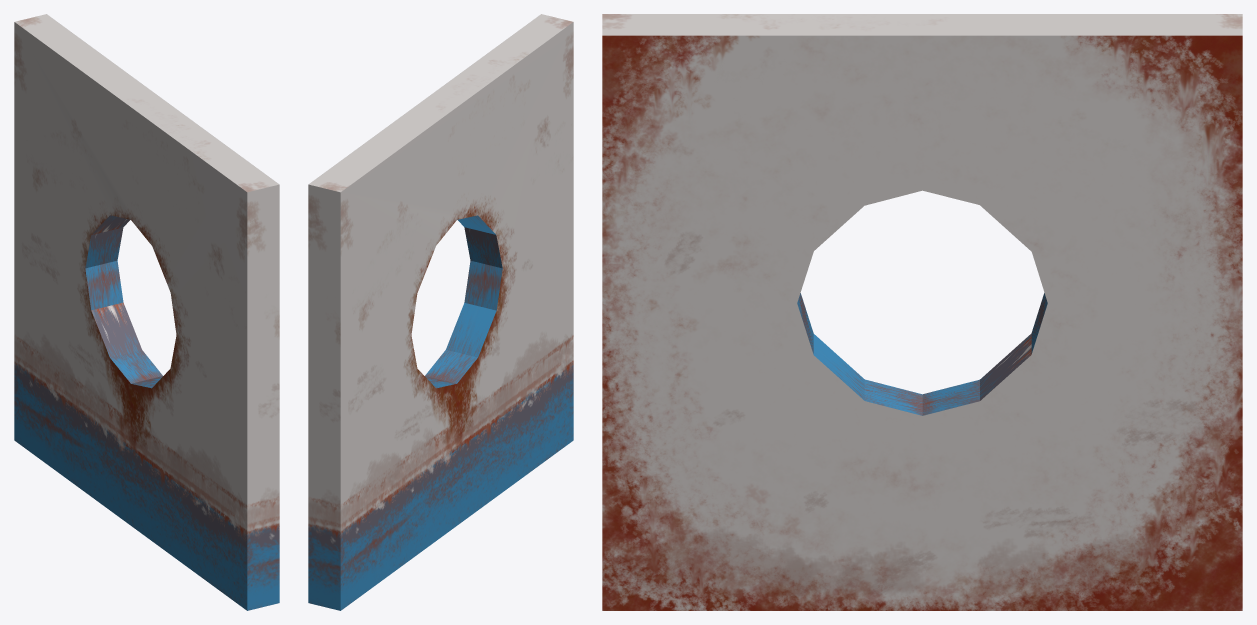
File: Boat1_Wallpiece.FBX
3 renders of one model, left to right at view 1: azimuth 30°, elevation 25°; view 2: azimuth 150°, elevation 25°; view 3: azimuth 270°, elevation 25°, orthographic. The views are drawn at different scales.
Parts seen in each view (by area): view 1: Wallpiece; view 2: Wallpiece; view 3: Wallpiece.
Boxes of the visible parts, x1,y1,x2,y2 form: Wallpiece: (14,14,279,610); Wallpiece: (308,14,573,610); Wallpiece: (602,14,1242,610).
Size of the model in its own units: 25.24 by 312 by 315.
2 materials, 2 textured.
